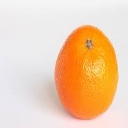orange: (52, 22, 121, 121)
